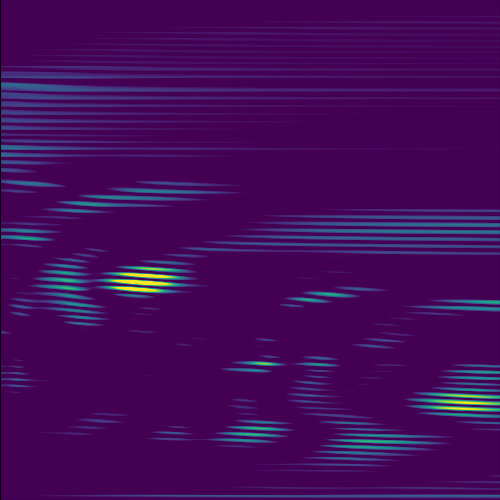semblance: (407, 388, 500, 426), (98, 264, 197, 294)
